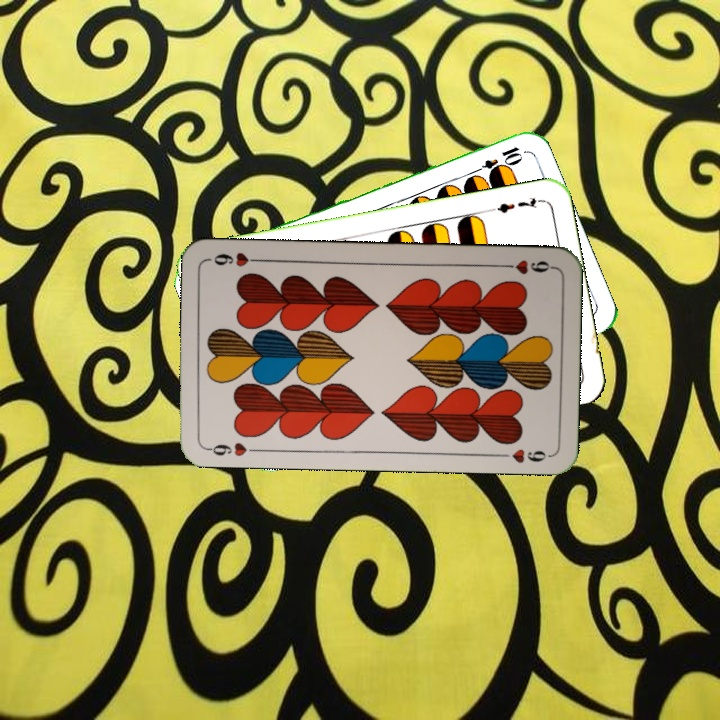E10: (468, 142, 525, 178)
E7: (486, 192, 545, 216)
H9: (202, 438, 262, 459), (497, 256, 556, 277)
